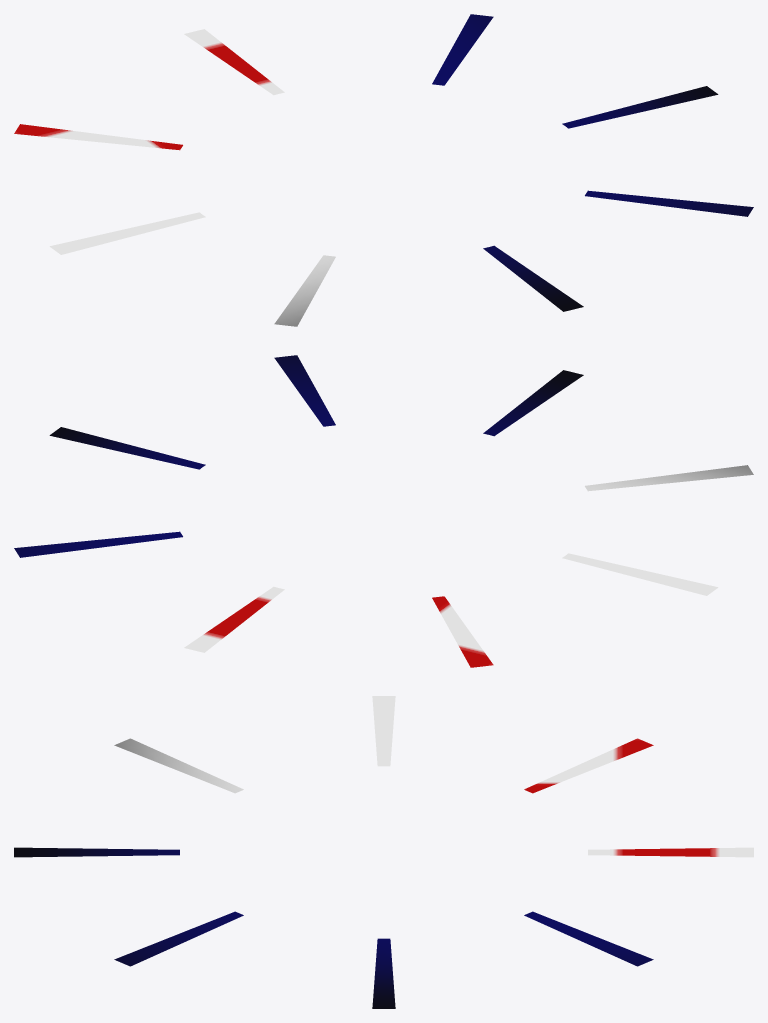
File: OV Floor Door Line Mesh.fbx
3 renders of one model, top to bottom at view 1: azimuth 30°, elevation 25°; view 2: azimuth 150°, elevation 25°; view 3: azimuth 270°, elevation 25°, orthographic. The views are drawn at different scales.
Visible parts, largest first — view 1: polySurface377; view 2: polySurface377; view 3: polySurface377.
Part boxes in pixels (left/top/right/bottom): polySurface377: left=14, top=14, right=753, bottom=326; polySurface377: left=14, top=355, right=753, bottom=667; polySurface377: left=14, top=696, right=753, bottom=1008.
Bounding box in the file's own units: 1803 × 2.08e-05 × 1803.
Materials: 1 (1 with a texture image).
